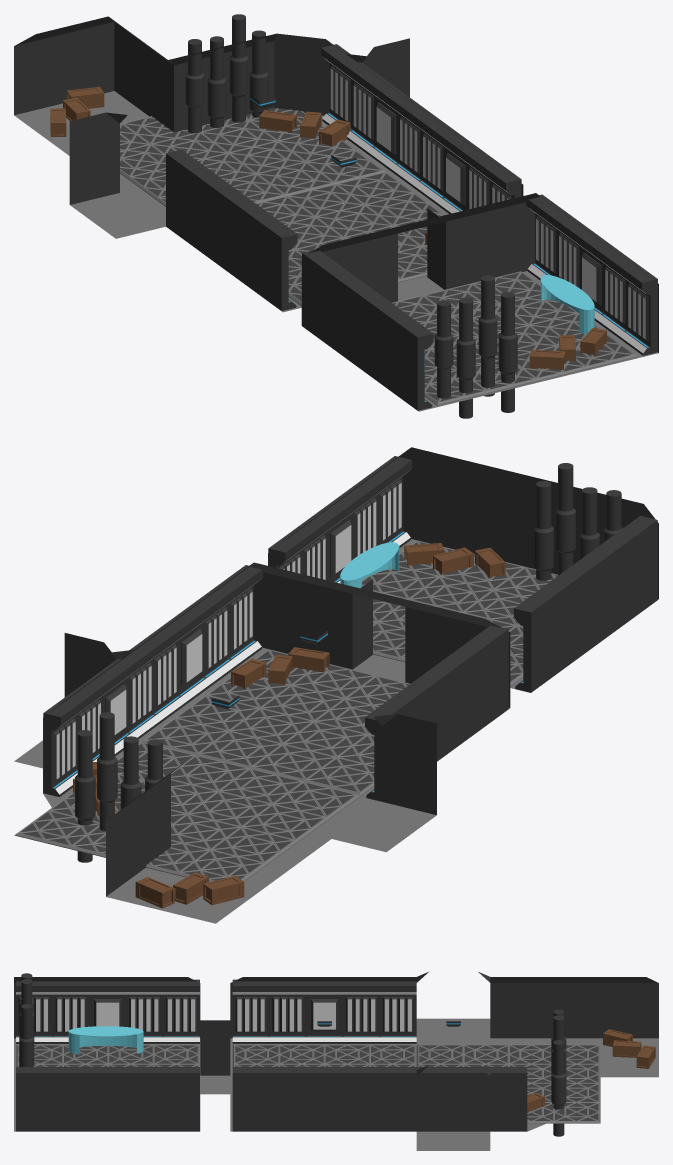
The picture shows the model from 3 angles, top to bottom: view 1: azimuth 30°, elevation 25°; view 2: azimuth 150°, elevation 25°; view 3: azimuth 270°, elevation 25°; orthographic projection. The views are drawn at different scales.
Visible parts, largest first — view 1: MainShip-col, Plane.002, Plane.001, Plane, prop.014-col, prop.005-col, prop.013-col, prop.015-col, prop.007-col, prop.008-col, prop.006-col, prop.018-col (+28 smaller); view 2: MainShip-col, Plane.002, Plane, Plane.001, prop.017-col, prop.001-col.001, prop.015-col, prop.016-col, prop.006-col, prop.014-col, prop.005-col, prop.002-col (+31 smaller); view 3: MainShip-col, Plane.002, Plane, Plane.001, prop.003-col, prop.004-col, prop.012-col, prop.019-col, prop.001-col.001, prop.002-col.001, prop.009-col.001, prop.001-col (+23 smaller).
Part boxes in pixels (bbox=[...]): MainShip-col: bbox=[14, 16, 658, 411]; Plane.002: bbox=[120, 108, 384, 206]; Plane.001: bbox=[392, 271, 637, 405]; Plane: bbox=[256, 172, 444, 305]; prop.014-col: bbox=[394, 317, 433, 410]; prop.005-col: bbox=[258, 217, 297, 311]; prop.013-col: bbox=[618, 262, 657, 355]; prop.015-col: bbox=[371, 300, 409, 393]; prop.007-col: bbox=[189, 166, 227, 259]; prop.008-col: bbox=[166, 149, 204, 243]; prop.006-col: bbox=[235, 200, 273, 293]; prop.018-col: bbox=[212, 183, 250, 276]; MainShip-col: bbox=[14, 447, 658, 923]; Plane.002: bbox=[14, 742, 360, 882]; Plane: bbox=[142, 649, 409, 796]; Plane.001: bbox=[362, 540, 557, 686]; prop.017-col: bbox=[513, 590, 556, 692]; prop.001-col.001: bbox=[43, 694, 86, 796]; prop.015-col: bbox=[590, 534, 632, 636]; prop.016-col: bbox=[539, 571, 581, 673]; prop.006-col: bbox=[441, 643, 483, 745]; prop.014-col: bbox=[615, 516, 657, 618]; prop.005-col: bbox=[466, 625, 508, 727]; prop.002-col: bbox=[145, 620, 187, 722]; MainShip-col: bbox=[14, 972, 658, 1150]; Plane.002: bbox=[416, 1044, 600, 1123]; Plane: bbox=[232, 1044, 416, 1066]; Plane.001: bbox=[16, 1044, 200, 1123]; prop.003-col: bbox=[269, 1067, 306, 1131]; prop.004-col: bbox=[232, 1067, 269, 1131]; prop.012-col: bbox=[52, 1067, 89, 1131]; prop.019-col: bbox=[89, 1067, 126, 1131]; prop.001-col.001: bbox=[490, 1067, 527, 1131]; prop.002-col.001: bbox=[453, 1067, 490, 1131]; prop.009-col.001: bbox=[416, 1067, 453, 1131]; prop.001-col: bbox=[380, 1067, 416, 1131].
Bounding box in the file's own units: 17 × 6.71 × 35.04.
